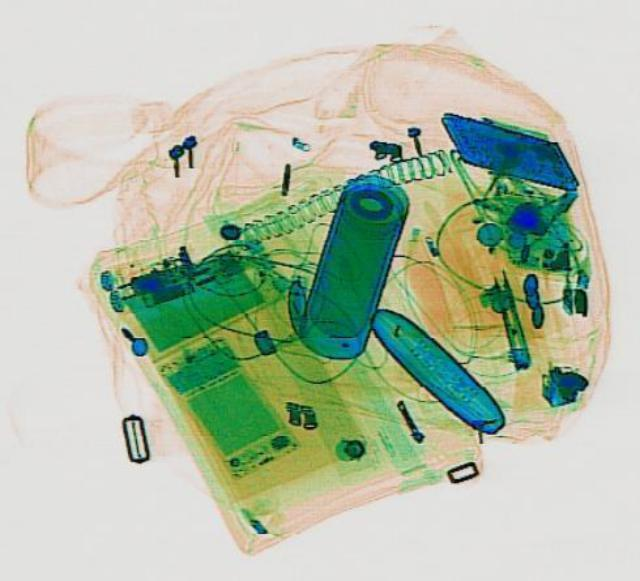Scissors: (486, 271, 530, 366)
